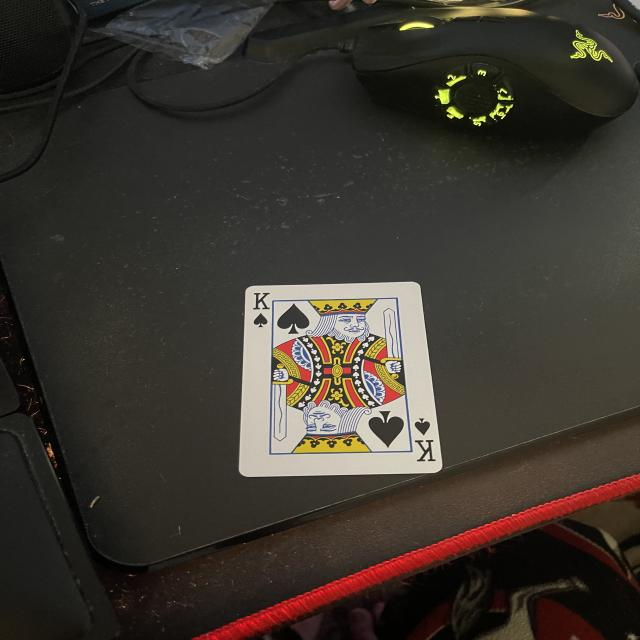King of spades: (241, 281, 443, 475)
